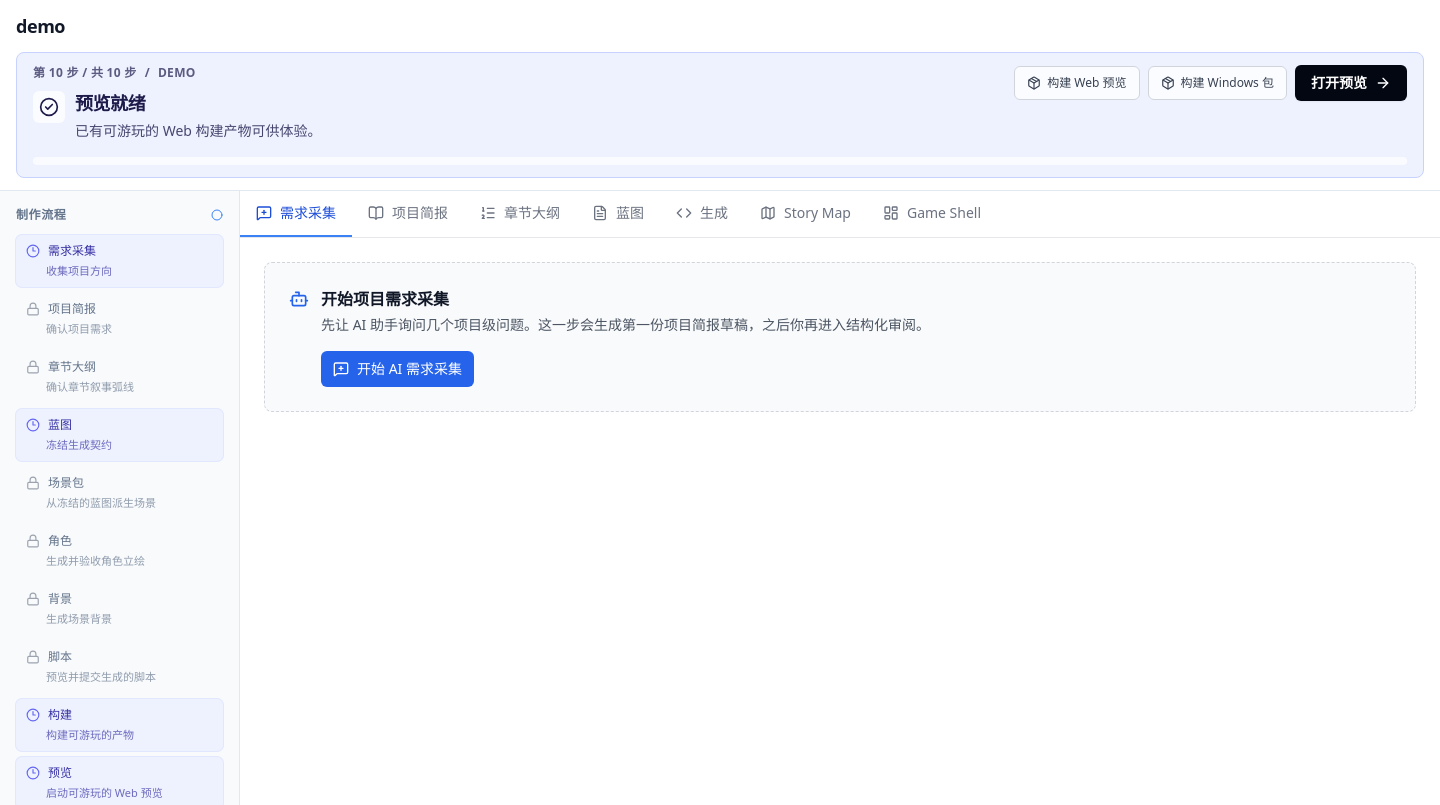
Test: ProjectWorkspacePage build controls › uses prototype build endpoint for active prototype windows package and preserves existing web preview
This screenshot has width=1440, height=805.
Click the button "构建 Windows 包" at (1217, 83), box [1148, 66, 1287, 100]
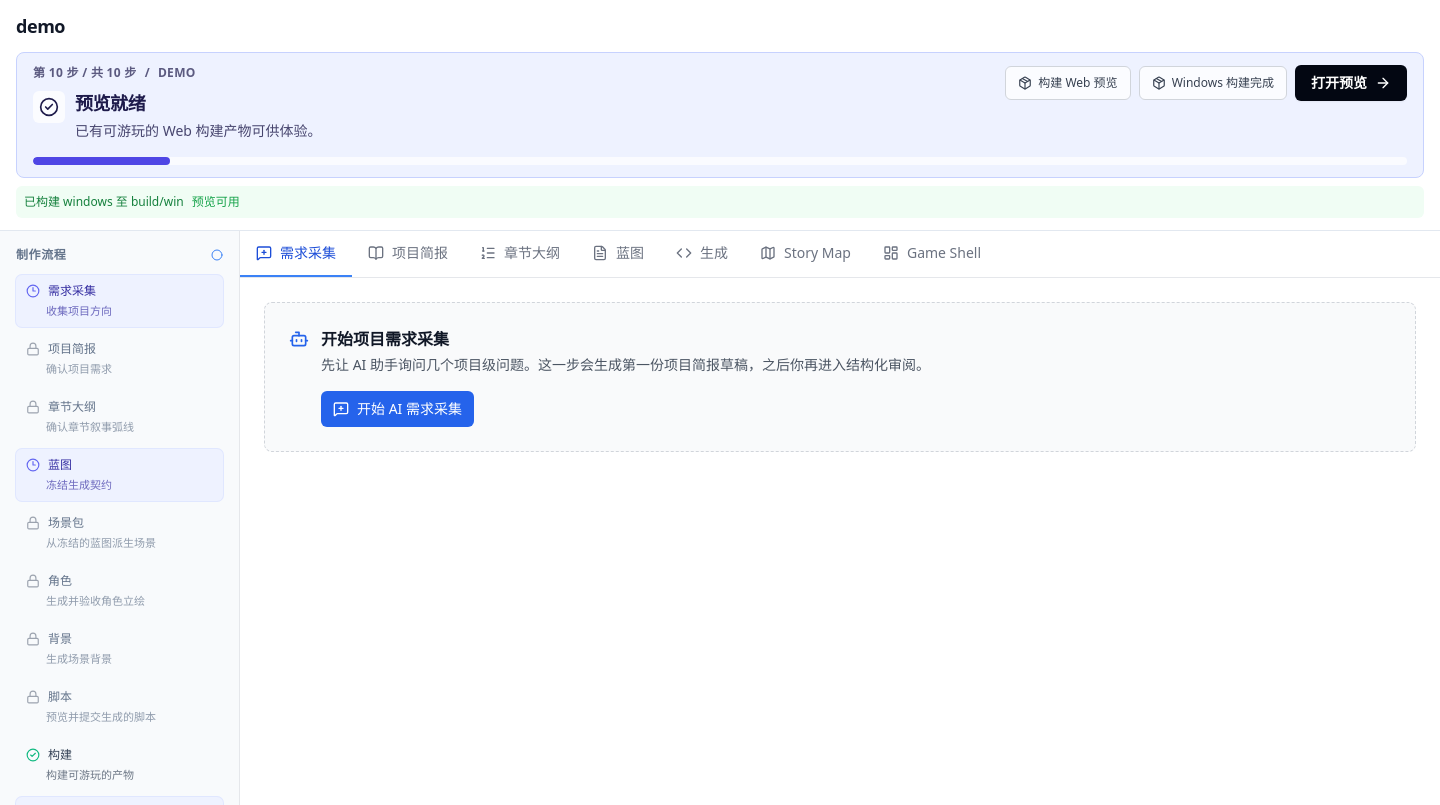
Expected: the button with aria-label "Primary action: 打开预览" is enabled, [1295, 65, 1407, 101]
Now the text "预览可用" is shown, box [192, 193, 240, 210]
